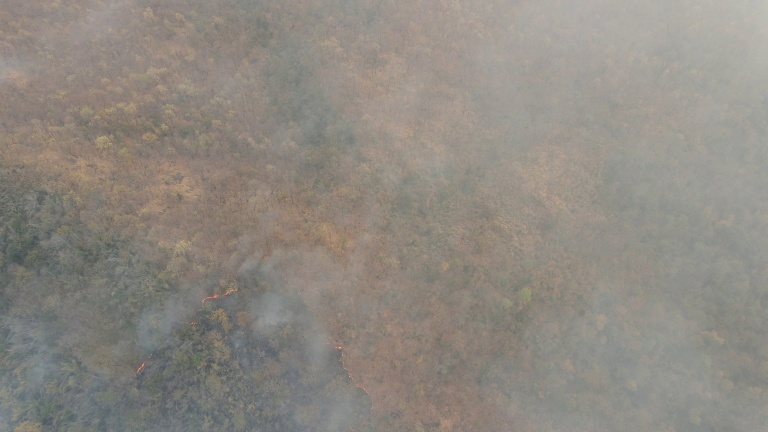fire: (330, 337, 370, 393), (195, 285, 241, 325), (137, 351, 156, 379)
smoke: (392, 5, 768, 432), (2, 220, 388, 428)
